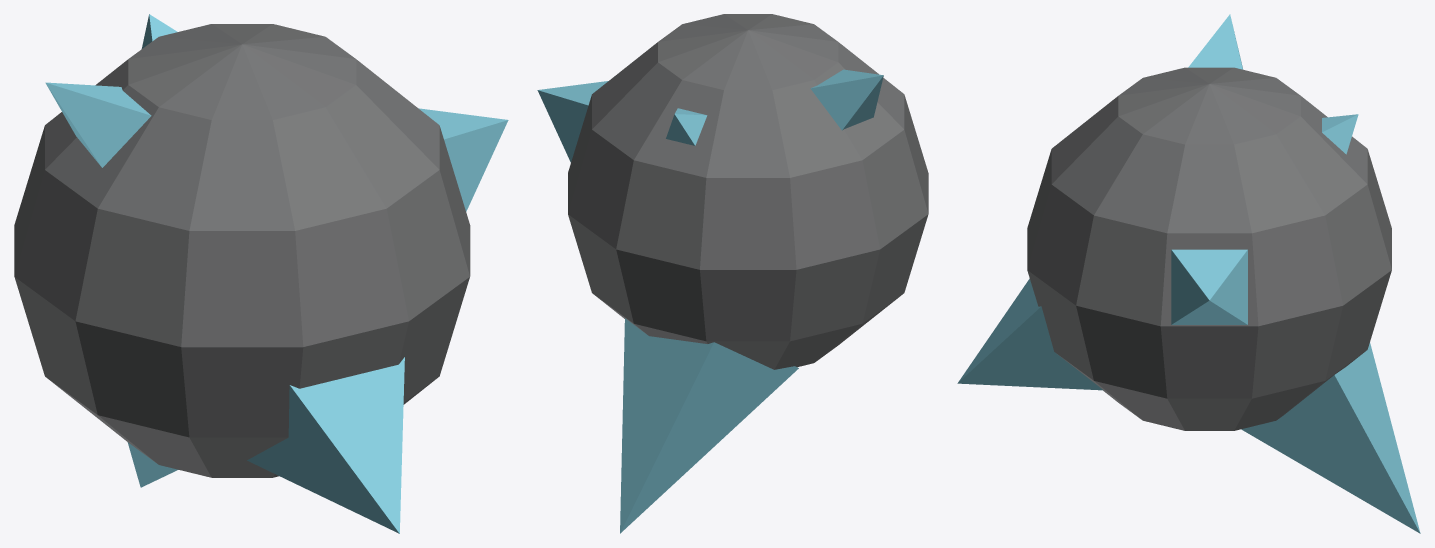
File: AsteroidMagnesiumAlloy.gltf
The picture shows the model from 3 angles, left to right: view 1: azimuth 30°, elevation 25°; view 2: azimuth 150°, elevation 25°; view 3: azimuth 270°, elevation 25°; orthographic projection. The views are drawn at different scales.
Visible parts, largest first — view 1: AsteroidBody, MetalFrag3, MetalFrag5, MetalFrag2, MetalFrag4; view 2: AsteroidBody, MetalFrag4, MetalFrag5, MetalFrag2, MetalFrag1; view 3: AsteroidBody, MetalFrag4, MetalFrag3, MetalFrag2, MetalFrag5, MetalFrag1.
Part boxes in pixels (bbox=[...]): AsteroidBody: bbox=[14, 24, 470, 477]; MetalFrag3: bbox=[247, 357, 404, 533]; MetalFrag5: bbox=[45, 82, 151, 167]; MetalFrag2: bbox=[419, 108, 508, 211]; MetalFrag4: bbox=[127, 442, 178, 487]; AsteroidBody: bbox=[568, 14, 928, 369]; MetalFrag4: bbox=[620, 318, 798, 533]; MetalFrag5: bbox=[810, 69, 883, 130]; MetalFrag2: bbox=[537, 81, 608, 162]; MetalFrag1: bbox=[666, 108, 707, 145]; AsteroidBody: bbox=[1027, 67, 1391, 430]; MetalFrag4: bbox=[1241, 343, 1420, 533]; MetalFrag3: bbox=[957, 278, 1103, 390]; MetalFrag2: bbox=[1171, 249, 1247, 324]; MetalFrag5: bbox=[1188, 14, 1242, 69]; MetalFrag1: bbox=[1322, 114, 1358, 154].
Size of the model in its own units: 0.2937 by 0.3313 by 0.3174.
2 materials, 2 textured.
